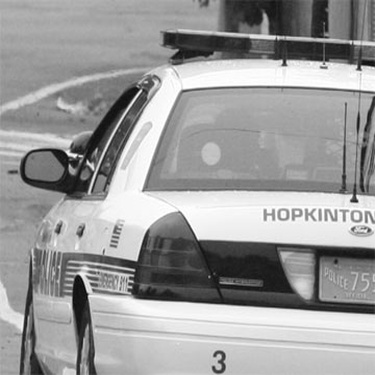car: (17, 25, 368, 357)
